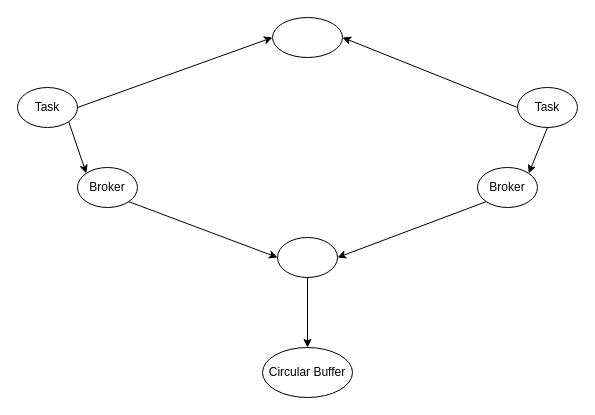
Some shapes in this 595 by 415 pixel diagram are drawn without their labels. The shapes that lost their labels are listed below. From the top down, each one's centre as x and y in pixels, then its label:
(x=307, y=37): Registry
(x=307, y=257): Channel
